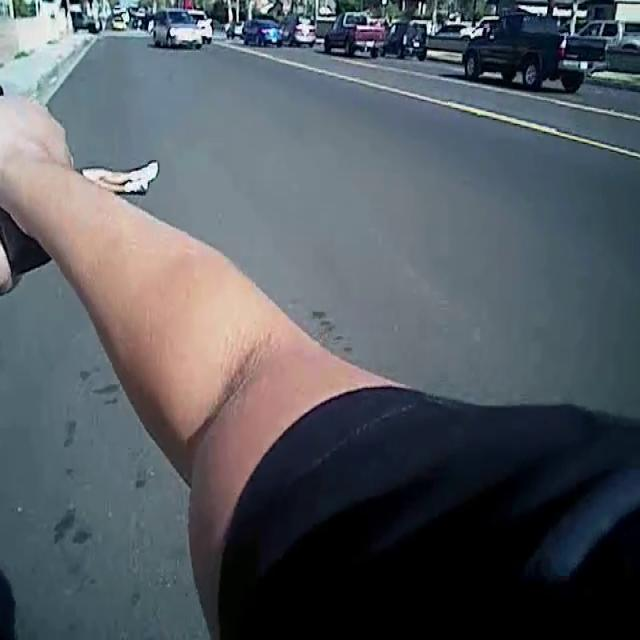gun: (0, 71, 58, 306)
